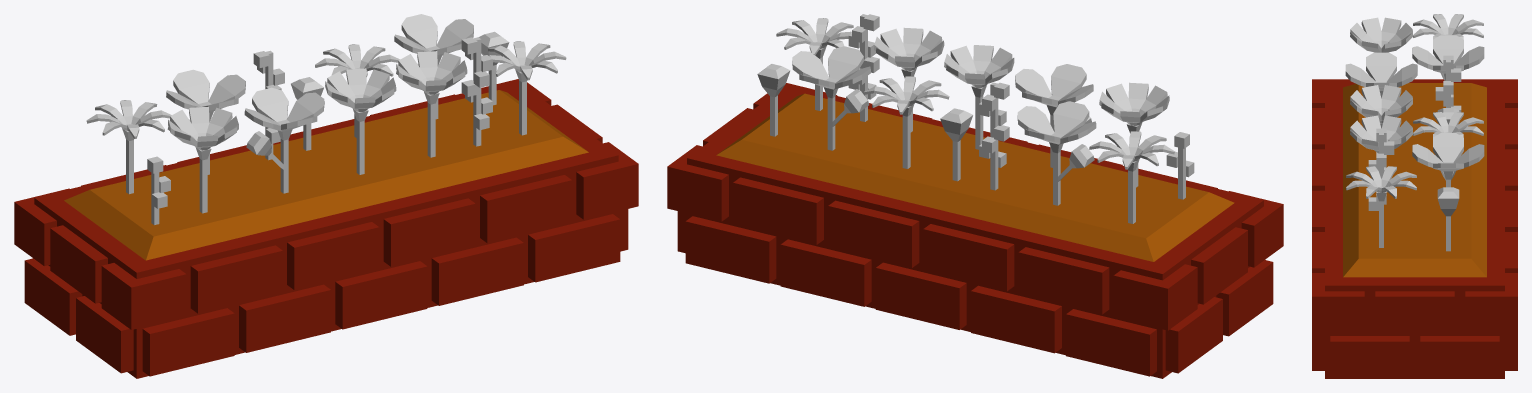
The model's file is flower.FBX.
The picture shows the model from 3 angles, left to right: view 1: azimuth 30°, elevation 25°; view 2: azimuth 150°, elevation 25°; view 3: azimuth 270°, elevation 25°; orthographic projection. The views are drawn at different scales.
Visible parts, largest first — view 1: FlowerBed, Flower_02_Bloom_2, Flower_03_Bloom_2, Flower_03_Bloom_3, Flower_03_Bloom_1, Flower_02_Bloom_1, Flower_02_Bloom_3, Flower_01_Bloom_1, Flower_01_Bloom_3, Flower_04_Bloom_2, Flower_01_Bloom_2, Flower_04_Bloom_1 (+3 smaller); view 2: FlowerBed, Flower_02_Bloom_3, Flower_02_Bloom_1, Flower_03_Bloom_2, Flower_02_Bloom_2, Flower_03_Bloom_3, Flower_03_Bloom_1, Flower_01_Bloom_2, Flower_01_Bloom_1, Flower_04_Bloom_1, Flower_01_Bloom_3, Flower_04_Bloom_2 (+3 smaller); view 3: FlowerBed, Flower_02_Bloom_3, Flower_02_Bloom_2, Flower_02_Bloom_1, Flower_03_Bloom_1, Flower_03_Bloom_2, Flower_01_Bloom_3, Flower_03_Bloom_3, Flower_01_Bloom_1, Flower_01_Bloom_2, Flower_04_Bloom_2, Flower_04_Bloom_1 (+1 smaller).
Boxes of the visible parts, x1,y1,x2,y2 form: FlowerBed: (14, 79, 638, 378); Flower_02_Bloom_2: (244, 87, 324, 193); Flower_03_Bloom_2: (325, 68, 396, 174); Flower_03_Bloom_3: (396, 51, 467, 157); Flower_03_Bloom_1: (168, 106, 238, 213); Flower_02_Bloom_1: (166, 69, 245, 174); Flower_02_Bloom_3: (394, 14, 473, 119); Flower_01_Bloom_1: (86, 100, 171, 194); Flower_01_Bloom_3: (488, 41, 566, 135); Flower_04_Bloom_2: (461, 37, 492, 146); Flower_01_Bloom_2: (315, 44, 399, 137); Flower_04_Bloom_1: (253, 50, 284, 160); FlowerBed: (667, 83, 1283, 378); Flower_02_Bloom_3: (792, 46, 870, 150); Flower_02_Bloom_1: (1017, 101, 1096, 205); Flower_03_Bloom_2: (944, 45, 1014, 149); Flower_02_Bloom_2: (1015, 64, 1093, 167); Flower_03_Bloom_3: (874, 27, 944, 132); Flower_03_Bloom_1: (1099, 82, 1169, 187); Flower_01_Bloom_2: (864, 76, 949, 168); Flower_01_Bloom_1: (1089, 131, 1174, 223); Flower_04_Bloom_1: (979, 82, 1009, 190); Flower_01_Bloom_3: (776, 18, 853, 110); Flower_04_Bloom_2: (848, 14, 879, 121); FlowerBed: (1312, 79, 1517, 378); Flower_02_Bloom_3: (1412, 133, 1484, 187); Flower_02_Bloom_2: (1345, 52, 1417, 98); Flower_02_Bloom_1: (1412, 35, 1484, 80); Flower_03_Bloom_1: (1350, 17, 1412, 52); Flower_03_Bloom_2: (1350, 85, 1412, 128); Flower_01_Bloom_3: (1346, 166, 1416, 247); Flower_03_Bloom_3: (1350, 115, 1412, 153); Flower_01_Bloom_1: (1413, 14, 1483, 39); Flower_01_Bloom_2: (1413, 112, 1483, 137); Flower_04_Bloom_2: (1368, 128, 1394, 210); Flower_04_Bloom_1: (1435, 55, 1461, 111).
Size of the model in its own units: 200 by 80 by 85.
